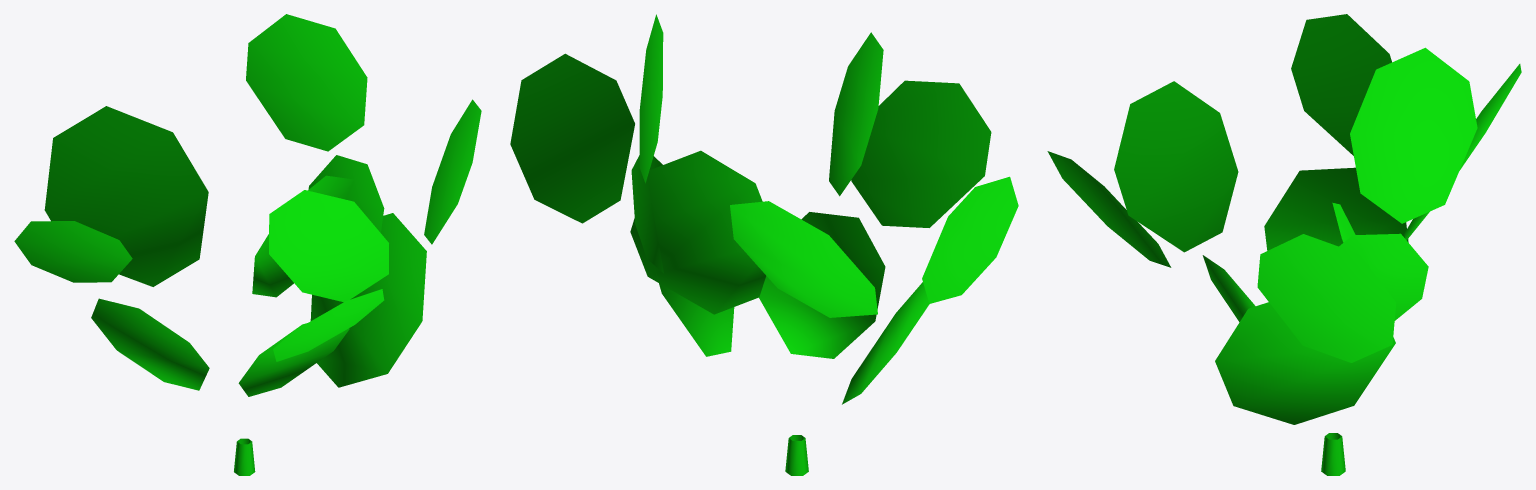
The model's file is shrub_a_lod1.glb.
3 renders of one model, left to right at view 1: azimuth 30°, elevation 25°; view 2: azimuth 150°, elevation 25°; view 3: azimuth 270°, elevation 25°, orthographic. The views are drawn at different scales.
Visible parts, largest first — view 1: shrub_a_lod1.1, shrub_a_lod1.0; view 2: shrub_a_lod1.1, shrub_a_lod1.0; view 3: shrub_a_lod1.1, shrub_a_lod1.0.
Boxes of the visible parts, box(x1,y1,x2,y2) form: shrub_a_lod1.1: box(14, 14, 481, 396); shrub_a_lod1.0: box(234, 438, 255, 475); shrub_a_lod1.1: box(510, 14, 1018, 404); shrub_a_lod1.0: box(785, 435, 808, 475); shrub_a_lod1.1: box(1047, 14, 1521, 424); shrub_a_lod1.0: box(1321, 433, 1345, 475).
Size of the model in its own units: 3.36 by 2.94 by 2.69.
